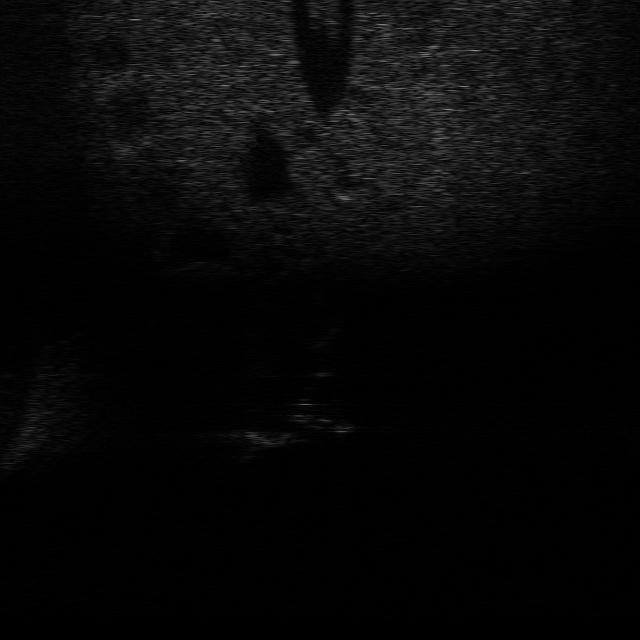ball: (296, 352, 345, 378)
square cage: (232, 426, 308, 454)
tyre: (286, 408, 362, 436)
